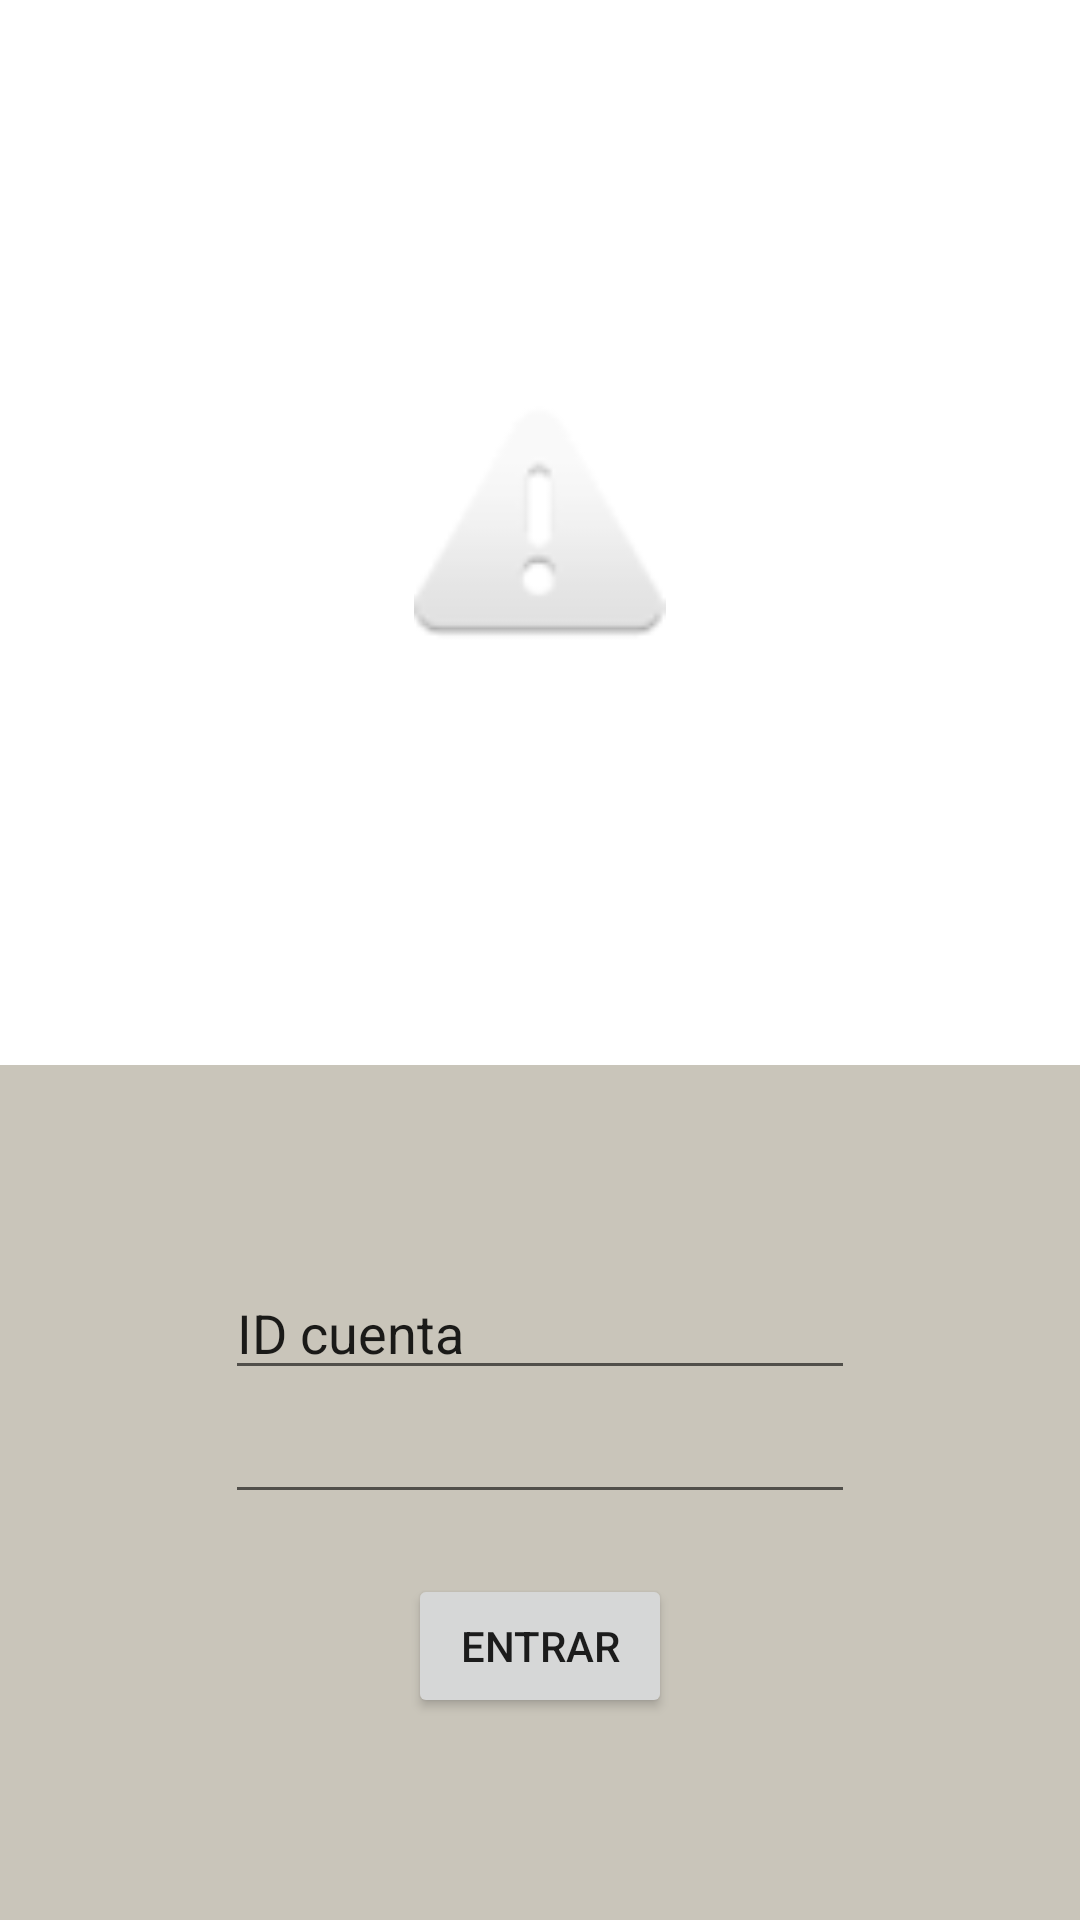

Screen size 1080w x 1920h. Icon name, then its center in pixels as (x=x, y=y):
alert: (x=540, y=549)
